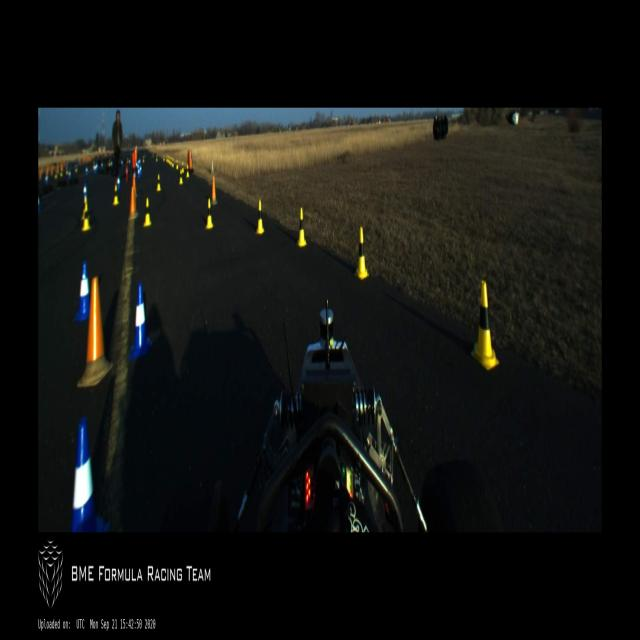blue_cone: (72, 418, 108, 532), (128, 283, 152, 360), (74, 260, 90, 322), (82, 183, 88, 200), (38, 191, 42, 213), (117, 175, 121, 191), (45, 173, 48, 186), (95, 159, 98, 171), (86, 164, 88, 176), (69, 168, 71, 180), (140, 163, 142, 174), (110, 158, 112, 168), (138, 168, 140, 177), (139, 158, 141, 167), (101, 160, 103, 169), (121, 158, 123, 167), (94, 162, 95, 173), (136, 161, 137, 169), (138, 164, 139, 171), (129, 159, 130, 166)
large_orange_cone: (126, 162, 128, 182)
unknown_cone: (76, 276, 112, 387), (128, 186, 138, 219), (130, 174, 138, 200), (210, 174, 217, 203)
yellow_cone: (471, 282, 499, 369), (354, 227, 369, 279), (296, 208, 307, 246), (255, 200, 265, 234), (204, 198, 213, 228), (143, 197, 151, 227), (83, 203, 91, 231), (81, 195, 88, 220), (113, 184, 119, 207), (156, 174, 162, 191), (179, 169, 183, 184), (181, 161, 185, 173), (186, 165, 189, 178), (75, 165, 78, 173), (176, 159, 178, 170), (172, 158, 174, 168), (108, 158, 110, 167), (66, 166, 68, 175), (170, 157, 172, 165), (55, 170, 57, 178), (166, 155, 168, 162), (163, 155, 165, 162), (156, 154, 158, 161), (143, 156, 145, 163), (61, 167, 62, 176), (169, 156, 170, 164), (168, 155, 169, 163)
